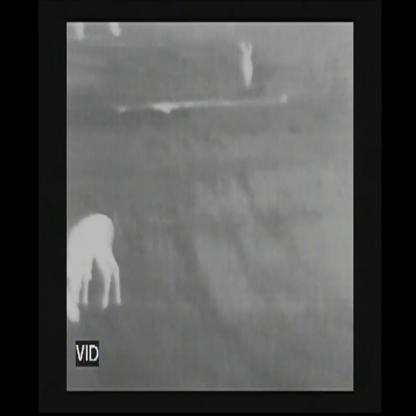rehkitze: (67, 209, 125, 329), (241, 40, 257, 91)
